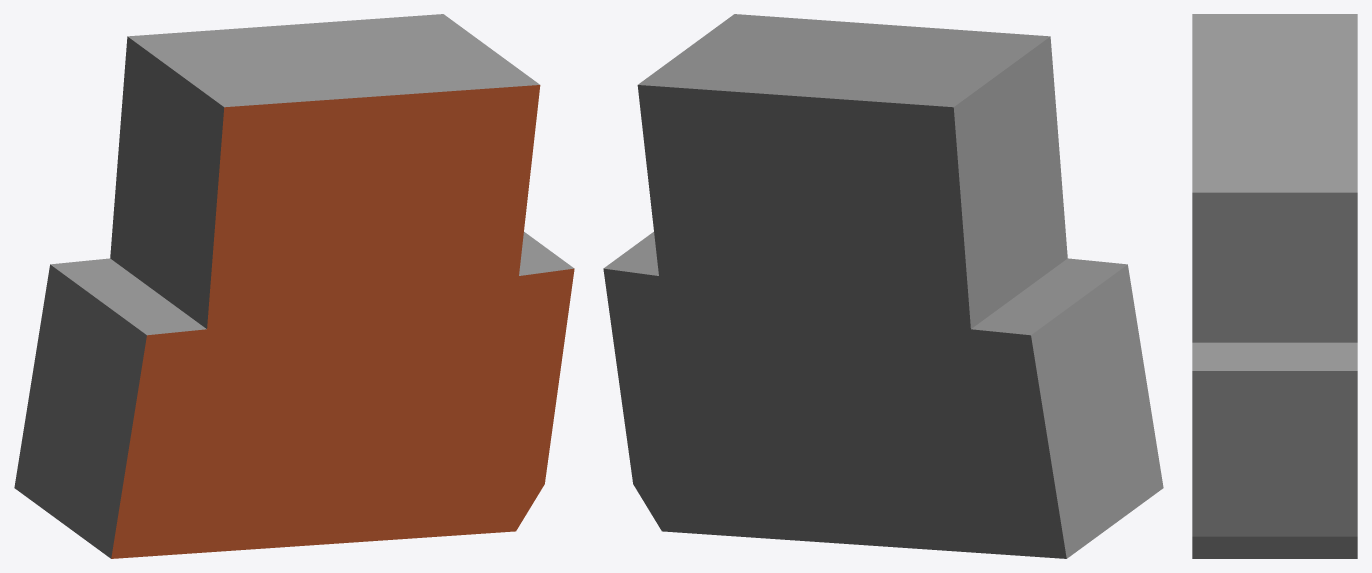
Rendered from construction_1516_assumed_A_Casa_h6m.obj.
The picture shows the model from 3 angles, left to right: view 1: azimuth 30°, elevation 25°; view 2: azimuth 150°, elevation 25°; view 3: azimuth 270°, elevation 25°; orthographic projection. The views are drawn at different scales.
Visible parts, largest first — view 1: construction_1516_assumed_A_Casa; view 2: construction_1516_assumed_A_Casa; view 3: construction_1516_assumed_A_Casa.
Boxes of the visible parts, bbox=[...] form: construction_1516_assumed_A_Casa: bbox=[14, 14, 574, 558]; construction_1516_assumed_A_Casa: bbox=[603, 14, 1163, 558]; construction_1516_assumed_A_Casa: bbox=[1192, 14, 1357, 558].
Bounding box in the file's own units: 16.57 × 16.93 × 6.
